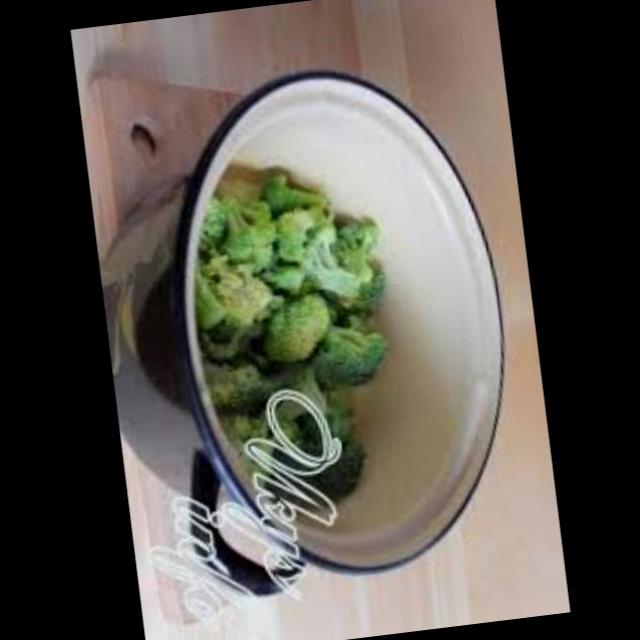Broccoli: (154, 144, 422, 440)
